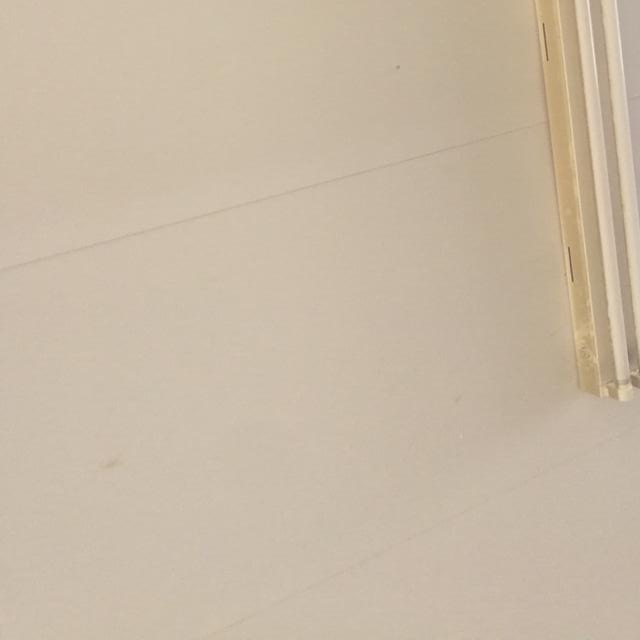fluorescent tube: (462, 0, 640, 427)
